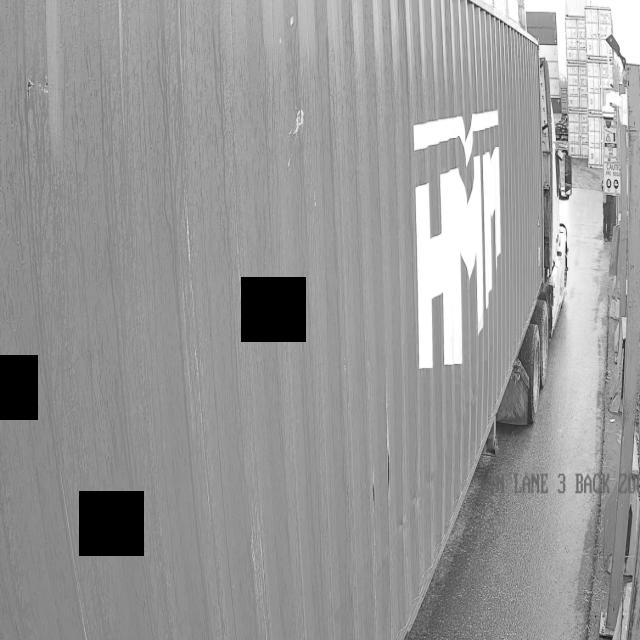container_company_logo: (376, 81, 555, 388)
truck_with_container: (0, 0, 558, 640)
